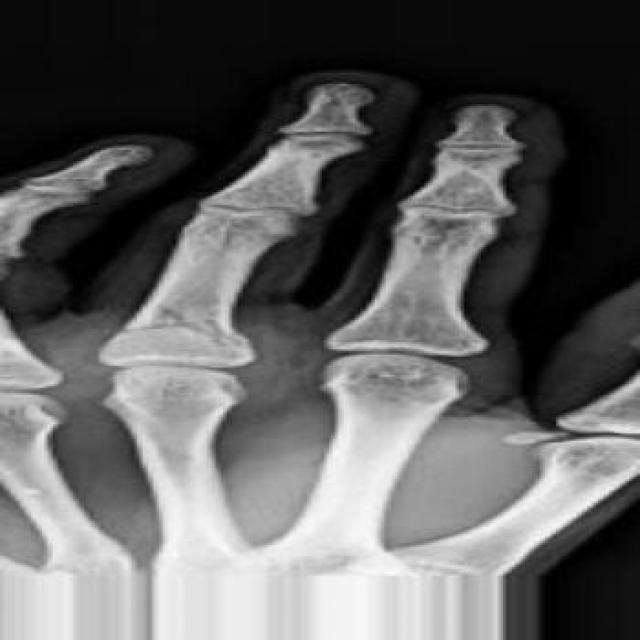Fracture: (119, 294, 247, 350)
